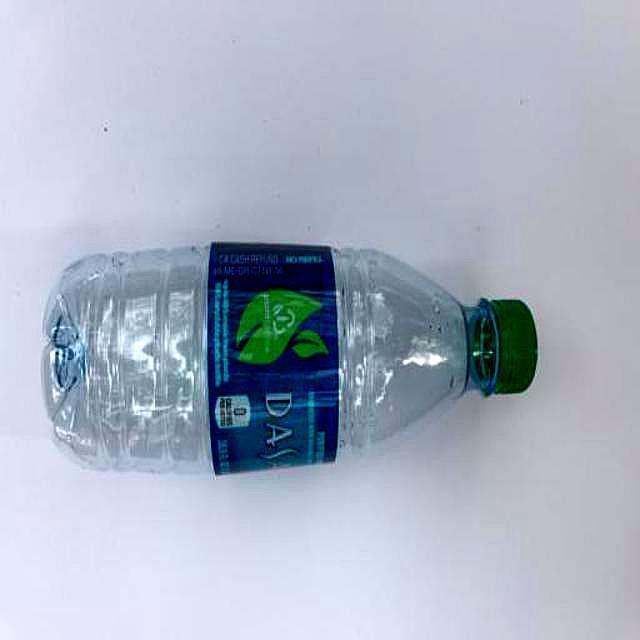Non-biodegradable: (40, 238, 541, 482)
